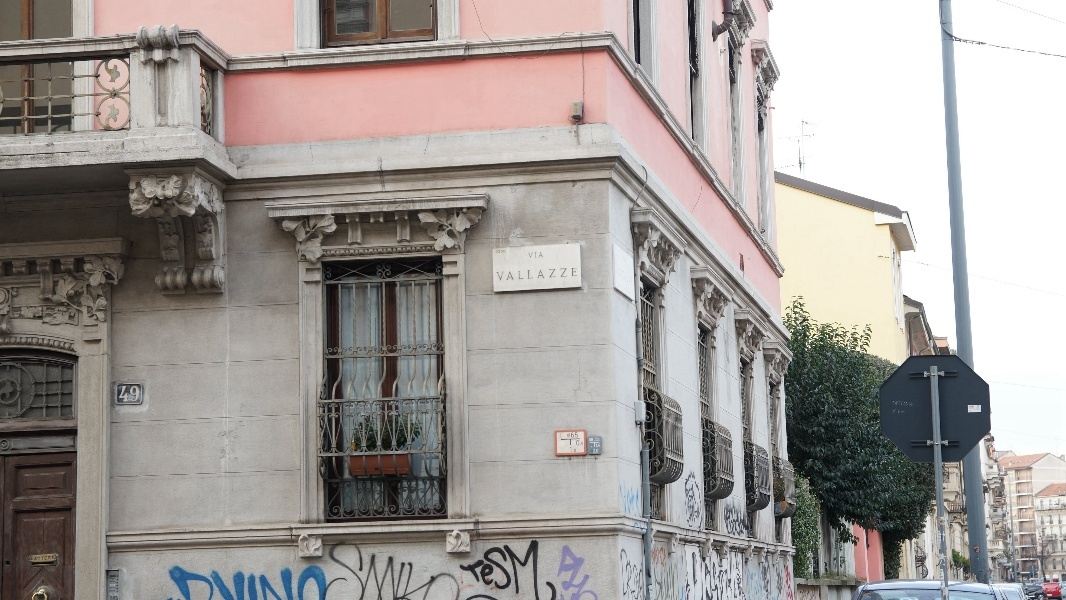text: (337, 535, 352, 600), (353, 535, 368, 600), (369, 535, 384, 600), (385, 535, 400, 600), (401, 535, 416, 600), (417, 535, 432, 600), (465, 536, 480, 600), (481, 536, 496, 600), (497, 536, 512, 600), (513, 536, 528, 600), (529, 536, 544, 600), (545, 536, 558, 600), (625, 548, 640, 600), (455, 536, 464, 600), (625, 481, 640, 519), (177, 566, 192, 600), (193, 566, 208, 600), (209, 566, 224, 600), (225, 566, 240, 600), (241, 566, 256, 600), (257, 566, 272, 600), (273, 566, 288, 600), (289, 566, 304, 600), (305, 566, 320, 600), (166, 566, 176, 600), (433, 535, 438, 600), (657, 547, 667, 573), (641, 548, 646, 600), (689, 501, 701, 521), (321, 566, 328, 600), (620, 548, 624, 600), (497, 268, 512, 281), (513, 268, 528, 281), (529, 268, 544, 281), (545, 268, 560, 281), (561, 268, 576, 281), (333, 535, 336, 600), (129, 386, 139, 403), (119, 386, 128, 403), (620, 481, 624, 519), (689, 485, 695, 507), (651, 547, 656, 573), (897, 400, 912, 407), (577, 440, 592, 446), (33, 556, 48, 562), (529, 253, 544, 258), (594, 449, 608, 454), (685, 485, 688, 507), (596, 443, 608, 448), (595, 438, 608, 442), (897, 409, 906, 414), (641, 481, 642, 519), (497, 250, 506, 254), (970, 406, 976, 412), (568, 434, 576, 438), (570, 447, 576, 452), (49, 556, 54, 562), (571, 433, 576, 438), (893, 400, 896, 407), (687, 501, 688, 521), (977, 406, 980, 412), (893, 409, 896, 414), (913, 400, 915, 407), (577, 268, 578, 281), (590, 438, 592, 442), (31, 556, 32, 562), (577, 433, 578, 438), (593, 438, 594, 442)
